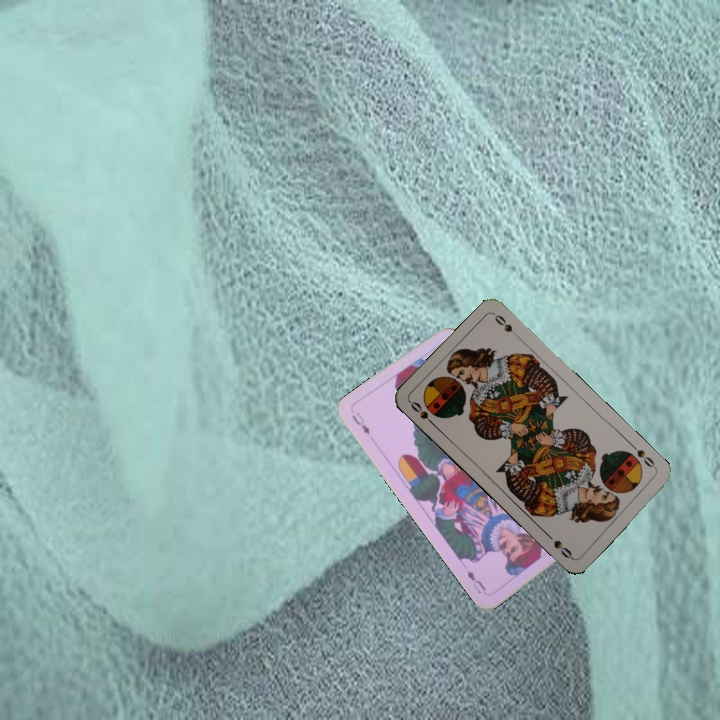EU: (348, 408, 372, 437)
SO: (406, 397, 439, 430), (633, 445, 659, 473)
